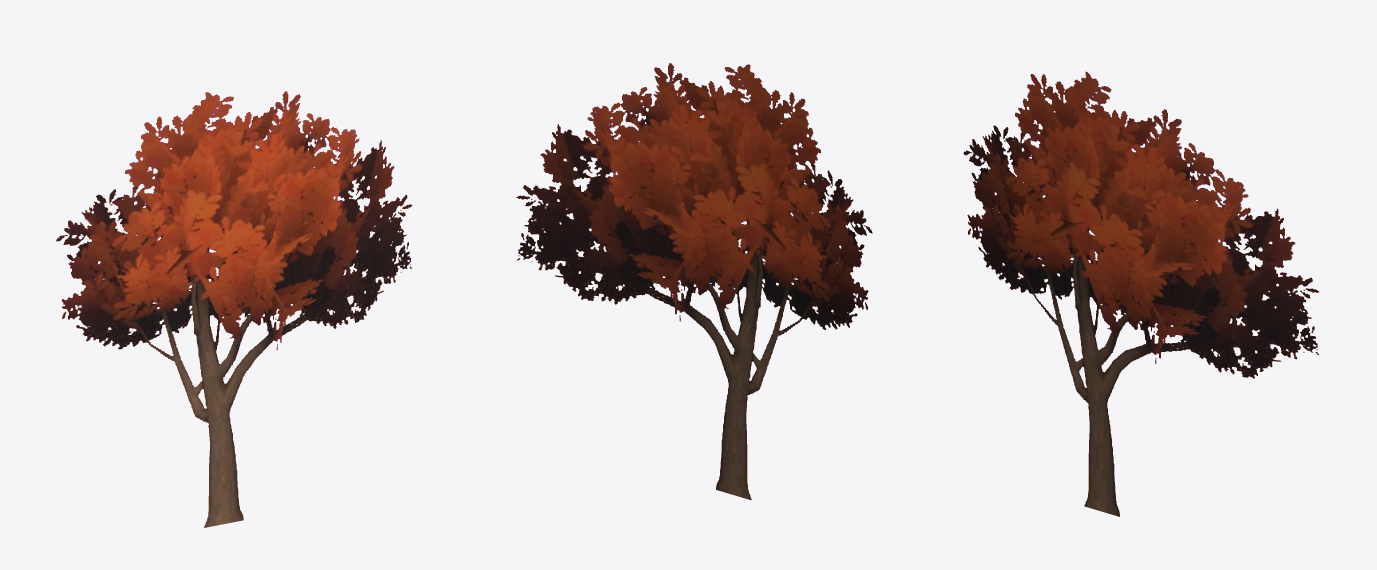
The picture shows the model from 3 angles, left to right: view 1: azimuth 30°, elevation 25°; view 2: azimuth 150°, elevation 25°; view 3: azimuth 330°, elevation 25°; orthographic projection.
Parts seen in each view (by area): view 1: body0_model0_lod0_mesh0; view 2: body0_model0_lod0_mesh0; view 3: body0_model0_lod0_mesh0.
Part boxes in pixels (left/top/right/bottom): body0_model0_lod0_mesh0: left=56, top=91, right=412, bottom=527; body0_model0_lod0_mesh0: left=516, top=63, right=872, bottom=500; body0_model0_lod0_mesh0: left=963, top=71, right=1319, bottom=516.
Size of the model in its own units: 29.46 by 28.56 by 2.51.
Materials: 1 (1 with a texture image).
